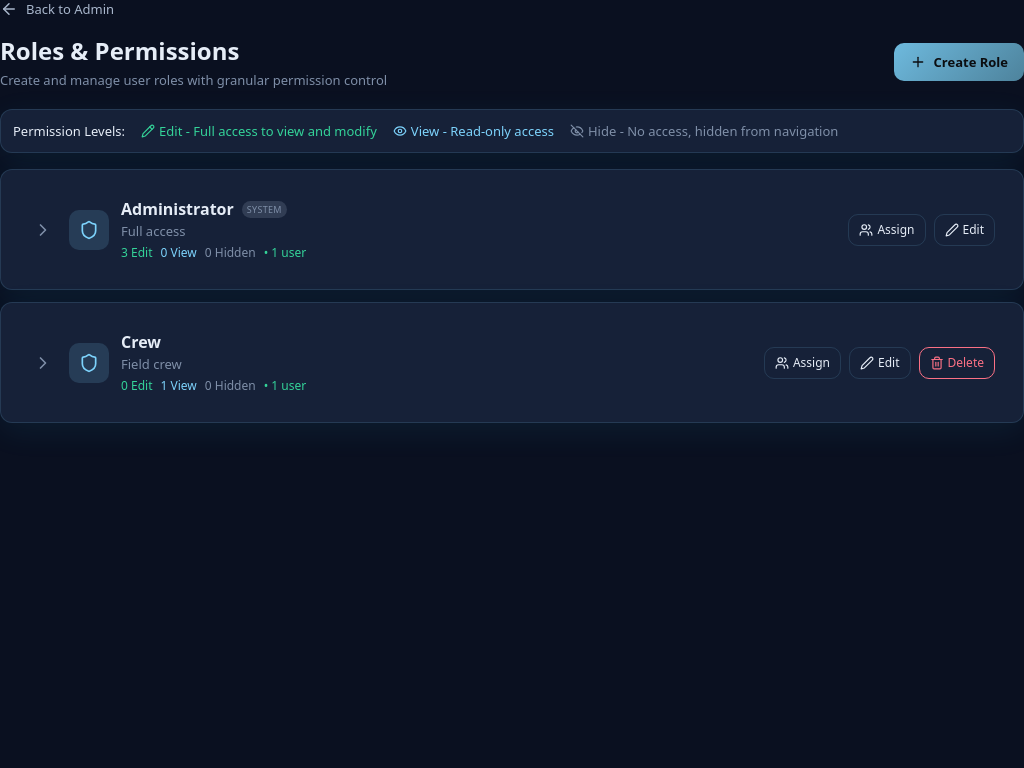
Test: Administrator lockout guard › locks user & role management permissions in the editor
The width and height of the screenshot is (1024, 768).
Click the button "Edit" in the row of "Administrator" at {"x": 964, "y": 230}, box [934,214,995,246]
(page scrolled)
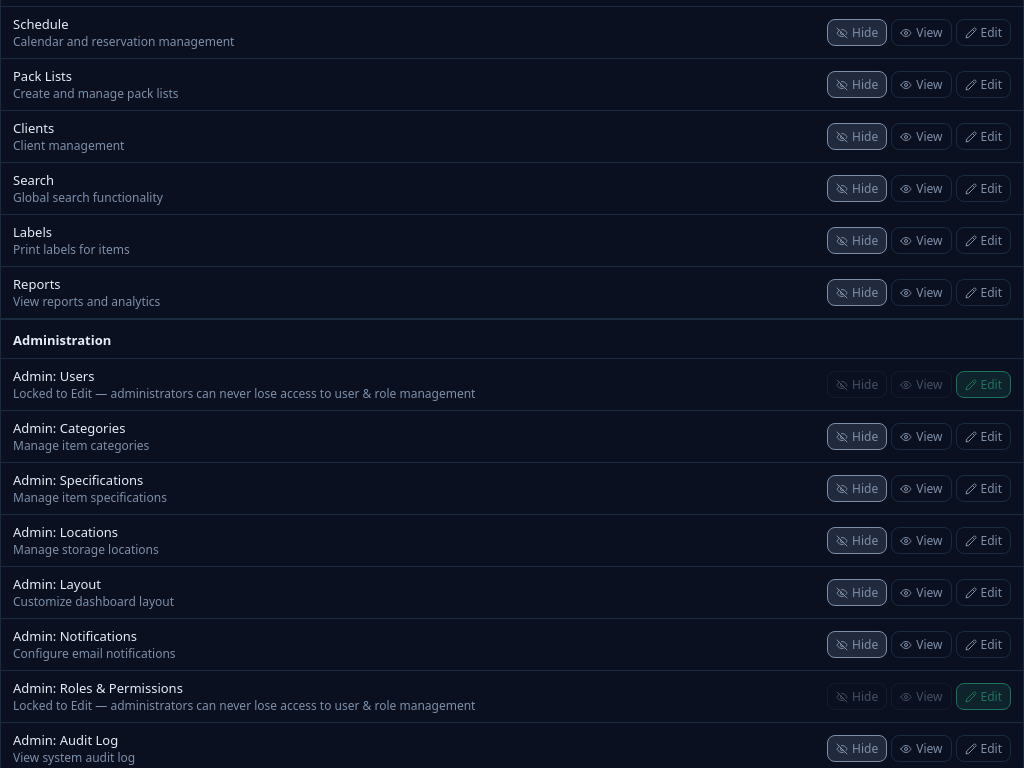
Now the text "Locked to Edit" is shown 2 times, box [13,385,475,402]; [13,697,475,714]
Now the button "Hide" in the row of "Admin: Users" is disabled, box [827,371,887,398]
Now the button "View" in the row of "Admin: Users" is disabled, box [891,371,952,398]
